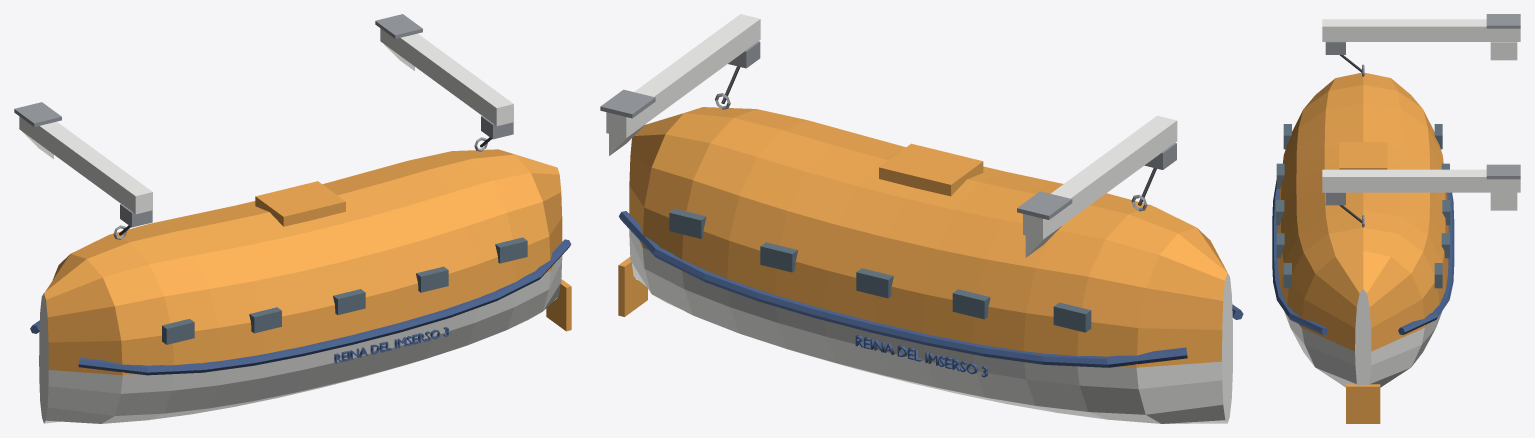
File: CR_BotePescantes.fbx
3 renders of one model, left to right at view 1: azimuth 30°, elevation 25°; view 2: azimuth 150°, elevation 25°; view 3: azimuth 270°, elevation 25°, orthographic. The views are drawn at different scales.
Parts seen in each view (by area): view 1: CR_BotePescantes; view 2: CR_BotePescantes; view 3: CR_BotePescantes.
Part boxes in pixels (x1,y1,x2,y2): CR_BotePescantes: [14, 14, 571, 423]; CR_BotePescantes: [600, 14, 1243, 423]; CR_BotePescantes: [1272, 14, 1520, 423].
Size of the model in its own units: 7.46 by 3.55 by 3.63.
